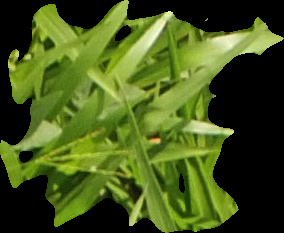grass: (1, 1, 283, 232)
